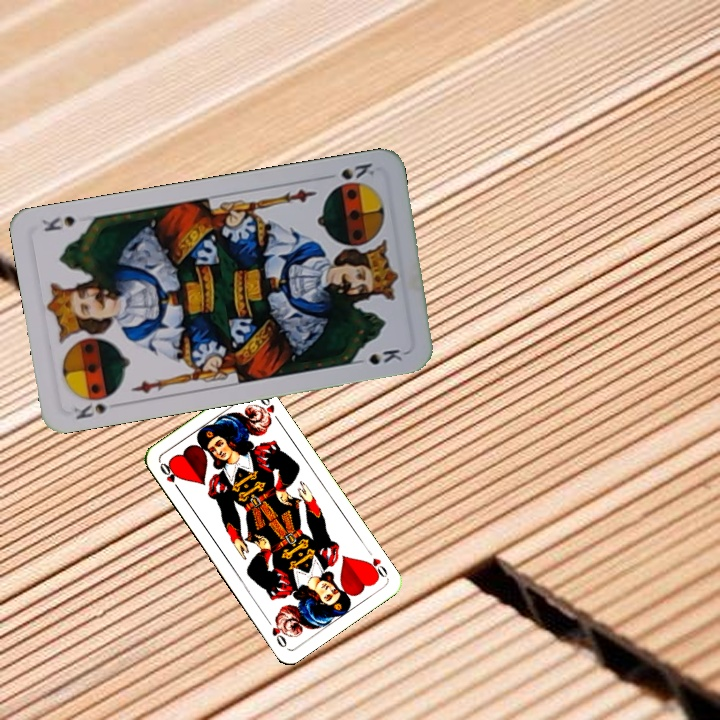HO: (156, 458, 183, 494), (362, 554, 390, 582)
SK: (69, 398, 124, 423), (336, 159, 377, 182)
